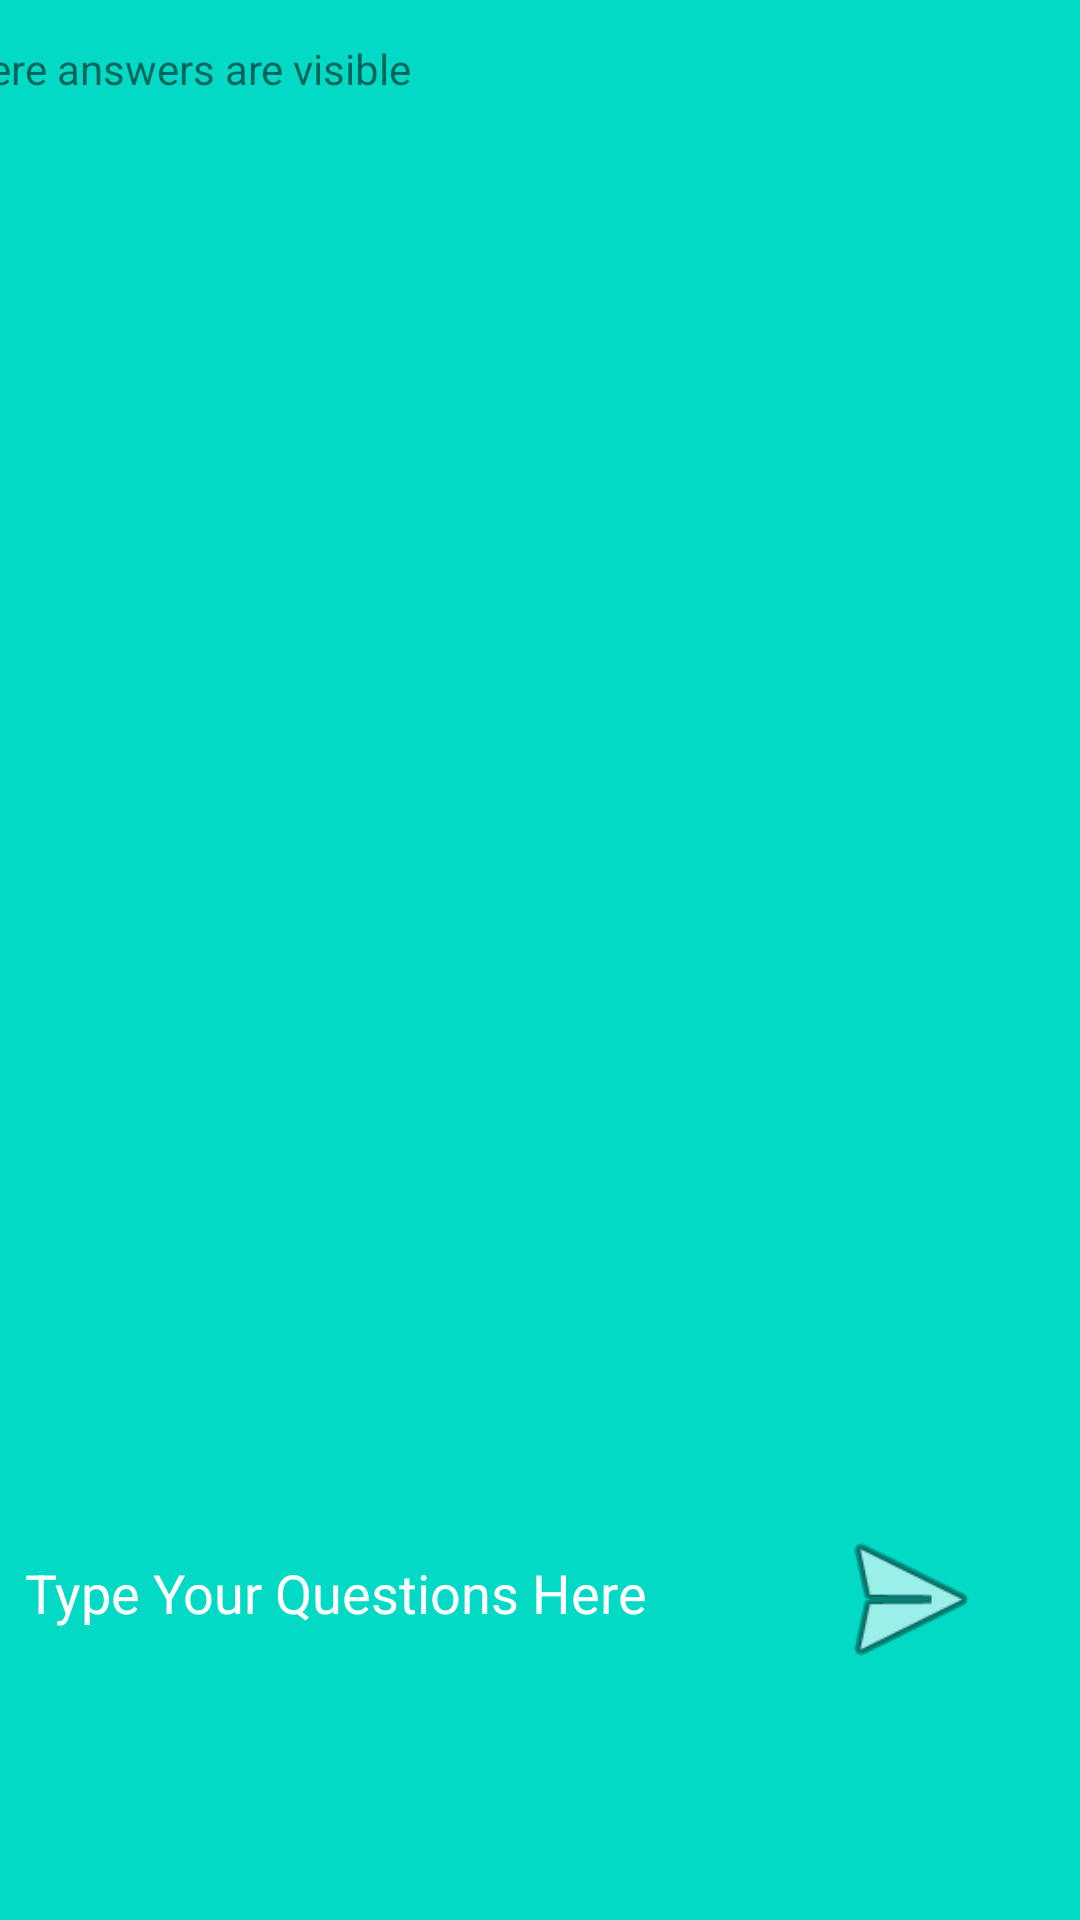

Icon click points for this 1080*1920 phone screenshot, format (x,y):
send: (911,1599)
